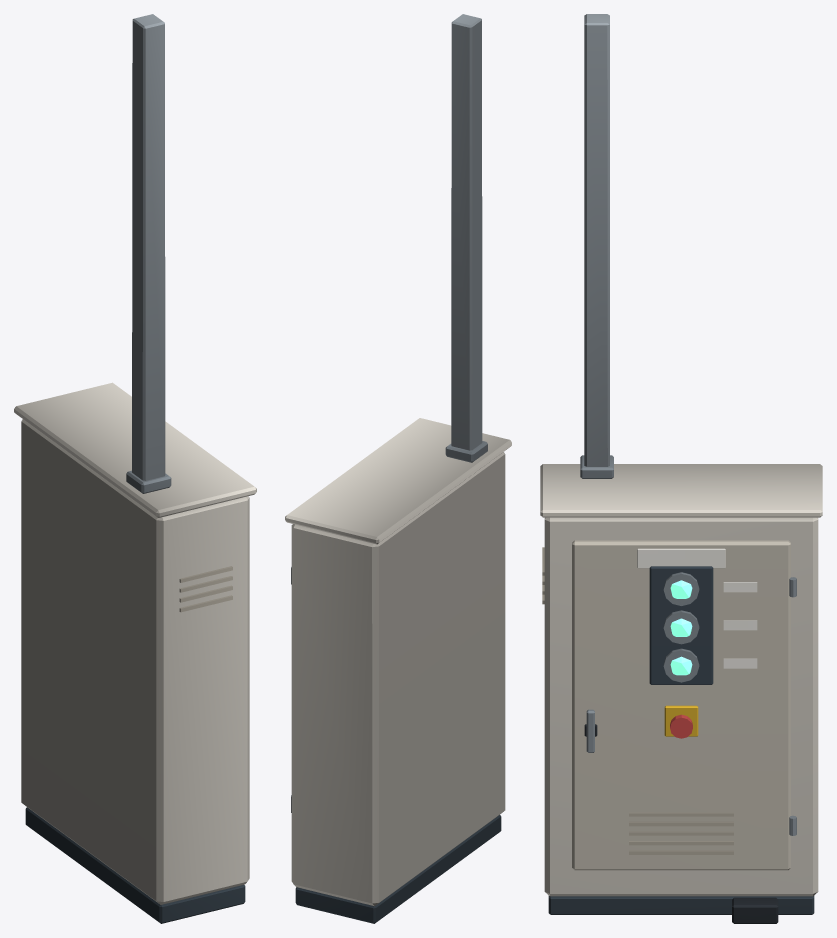
File: control_panel.glb
3 renders of one model, left to right at view 1: azimuth 30°, elevation 25°; view 2: azimuth 150°, elevation 25°; view 3: azimuth 270°, elevation 25°, orthographic. The views are drawn at different scales.
Visible parts, largest first — view 1: control_panel; view 2: control_panel; view 3: control_panel.
Boxes of the visible parts, left/top/right/bottom form: control_panel: left=14, top=14, right=256, bottom=923; control_panel: left=285, top=14, right=511, bottom=923; control_panel: left=540, top=14, right=822, bottom=923.
Bounding box in the file's own units: 0.6421 × 4.52 × 1.34.
2 materials, 1 textured.
